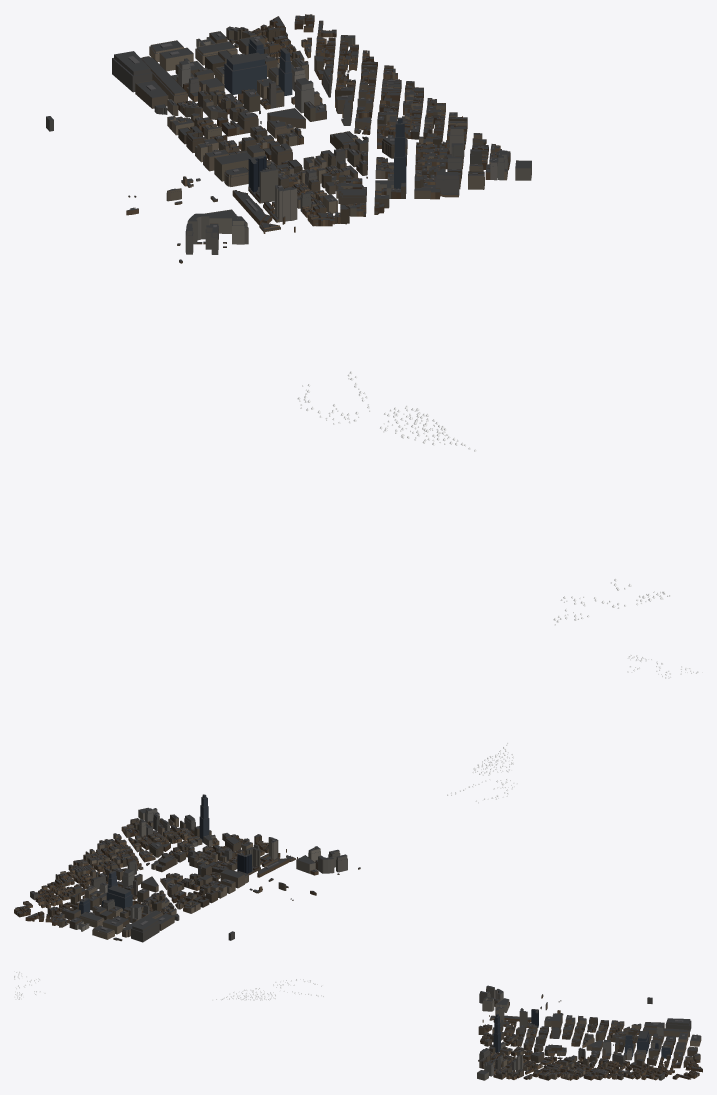
File: manhattan_-03_-05.glb
3 renders of one model, top to bottom at view 1: azimuth 30°, elevation 25°; view 2: azimuth 150°, elevation 25°; view 3: azimuth 270°, elevation 25°, orthographic. The views are drawn at different scales.
Visible parts, largest first — view 1: BLD_midrise_-03_-05, BLD_lowrise_-03_-05, BLD_towers_-03_-05, TREE_-03_-05; view 2: BLD_midrise_-03_-05, BLD_lowrise_-03_-05, BLD_towers_-03_-05, TREE_-03_-05; view 3: BLD_midrise_-03_-05, BLD_lowrise_-03_-05, BLD_towers_-03_-05, TREE_-03_-05.
Boxes of the visible parts, bbox=[...] form: BLD_midrise_-03_-05: bbox=[46, 26, 531, 254]; BLD_lowrise_-03_-05: bbox=[126, 14, 509, 263]; BLD_towers_-03_-05: bbox=[224, 48, 463, 222]; TREE_-03_-05: bbox=[297, 371, 670, 625]; BLD_midrise_-03_-05: bbox=[30, 807, 347, 942]; BLD_lowrise_-03_-05: bbox=[14, 820, 360, 941]; BLD_towers_-03_-05: bbox=[106, 794, 278, 910]; TREE_-03_-05: bbox=[447, 655, 702, 803]; BLD_midrise_-03_-05: bbox=[477, 985, 701, 1080]; BLD_lowrise_-03_-05: bbox=[478, 993, 702, 1080]; BLD_towers_-03_-05: bbox=[493, 1006, 649, 1071]; TREE_-03_-05: bbox=[14, 971, 324, 1000].
Bounding box in the file's own units: 1661 × 265 × 4435.
